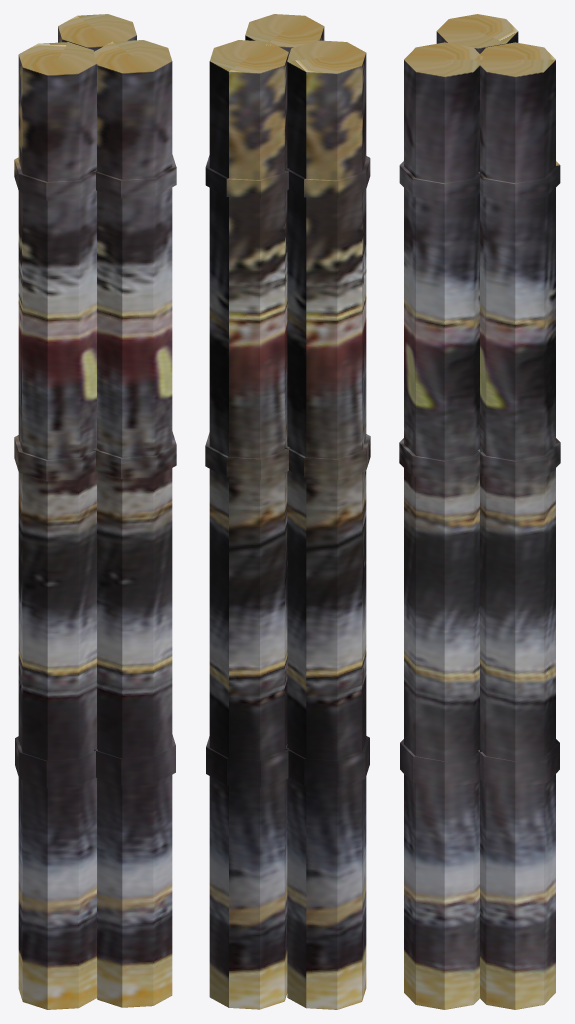
Rendered from sugarTAKE.fbx.
The picture shows the model from 3 angles, left to right: view 1: azimuth 30°, elevation 25°; view 2: azimuth 150°, elevation 25°; view 3: azimuth 270°, elevation 25°; orthographic projection.
Visible parts, largest first — view 1: pasted__pCylinder2; view 2: pasted__pCylinder2; view 3: pasted__pCylinder2.
Part boxes in pixels (left/top/right/bottom): pasted__pCylinder2: left=14, top=14, right=176, bottom=1009; pasted__pCylinder2: left=205, top=14, right=370, bottom=1009; pasted__pCylinder2: left=399, top=14, right=560, bottom=1009.
Size of the model in its own units: 0.841 by 5.48 by 0.8594.
1 material, 1 textured.
